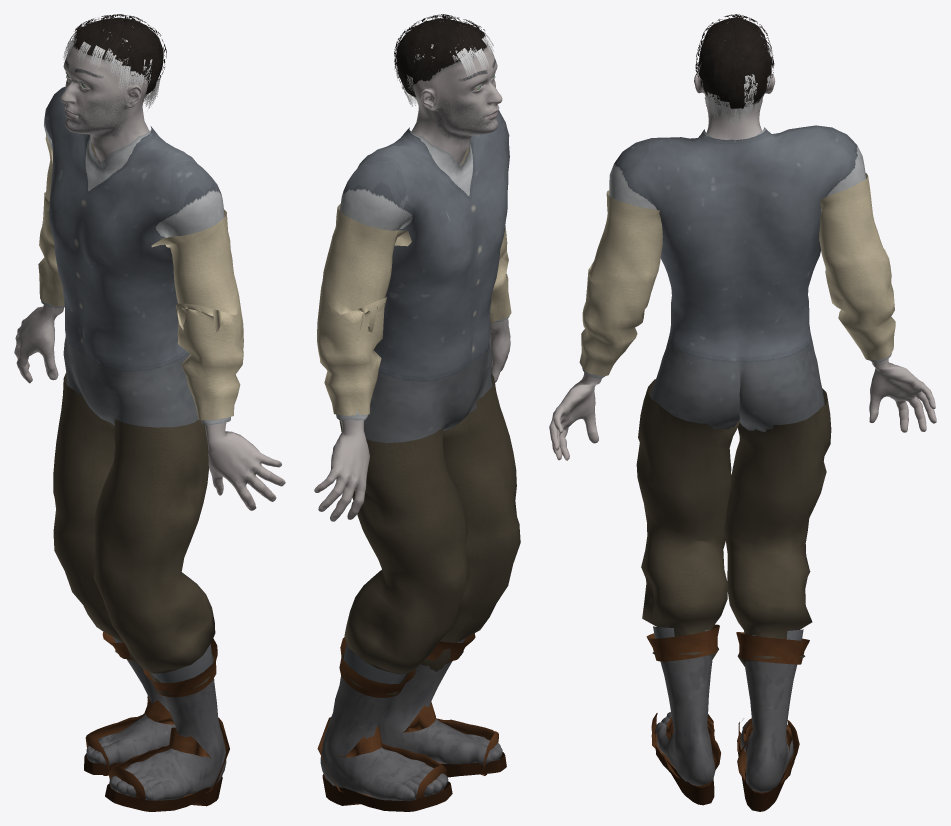
The model's file is SM_Art_Person_dream_ethan.gltf.
3 renders of one model, left to right at view 1: azimuth 30°, elevation 25°; view 2: azimuth 150°, elevation 25°; view 3: azimuth 270°, elevation 25°, orthographic. The views are drawn at different scales.
Parts seen in each view (by area): view 1: SM_Art_Person_dream_ethan; view 2: SM_Art_Person_dream_ethan; view 3: SM_Art_Person_dream_ethan.
Part boxes in pixels (x1=…): SM_Art_Person_dream_ethan: x1=14, y1=14, x2=285, y2=811; SM_Art_Person_dream_ethan: x1=314, y1=14, x2=520, y2=811; SM_Art_Person_dream_ethan: x1=549, y1=14, x2=936, y2=811.
Size of the model in its own units: 0.3979 by 1.83 by 0.8696.
15 materials, 15 textured.
